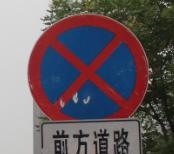No Parking: (26, 14, 154, 130)
